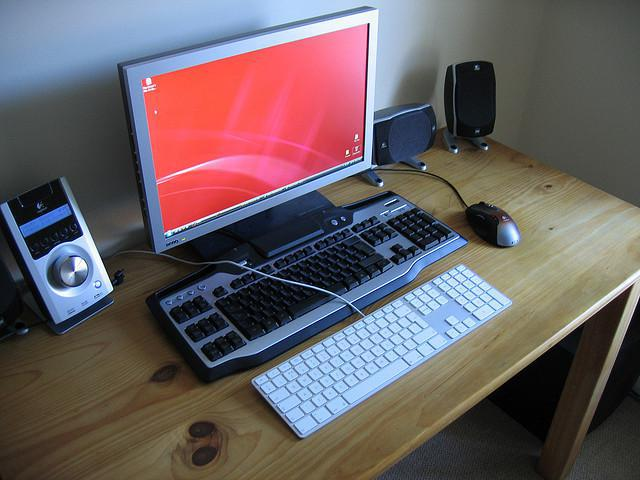tv: (111, 2, 380, 257)
